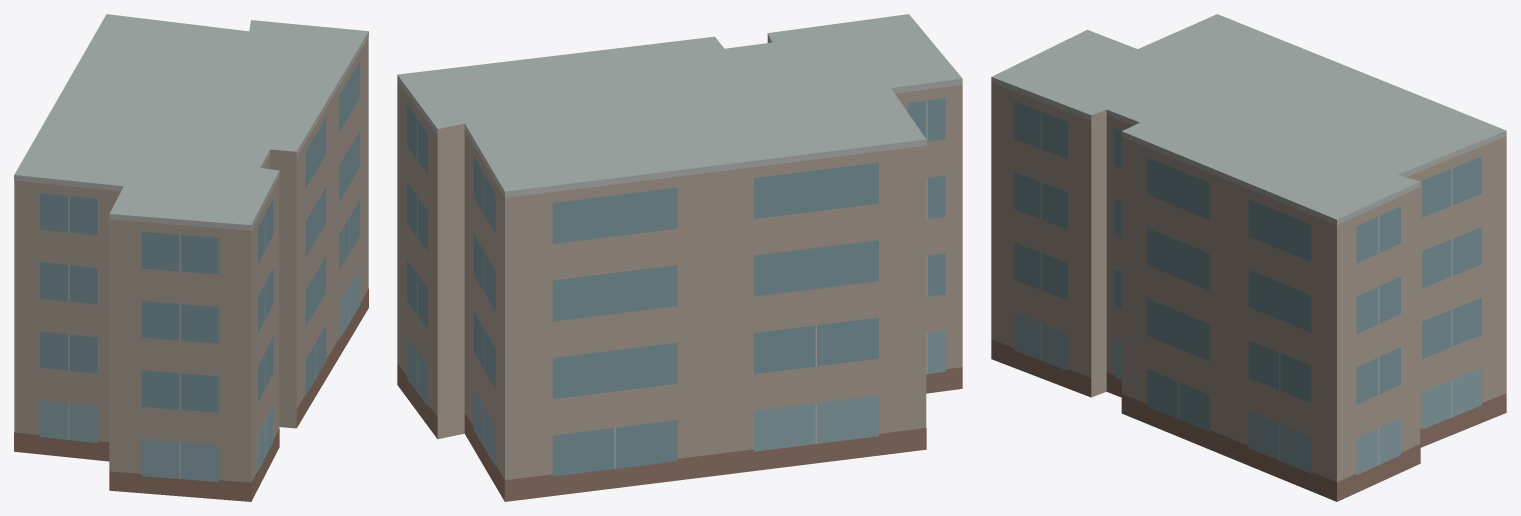
File: survey-upis-32666814.glb
3 renders of one model, left to right at view 1: azimuth 30°, elevation 25°; view 2: azimuth 150°, elevation 25°; view 3: azimuth 270°, elevation 25°, orthographic. The views are drawn at different scales.
Visible parts, largest first — view 1: survey-upis-32666814.tmp; view 2: survey-upis-32666814.tmp; view 3: survey-upis-32666814.tmp.
Part boxes in pixels (x1=…): survey-upis-32666814.tmp: x1=14, y1=14, x2=368, y2=501; survey-upis-32666814.tmp: x1=397, y1=14, x2=962, y2=501; survey-upis-32666814.tmp: x1=991, y1=14, x2=1506, y2=501.
Size of the model in its own units: 19.08 by 12.2 by 20.19.
